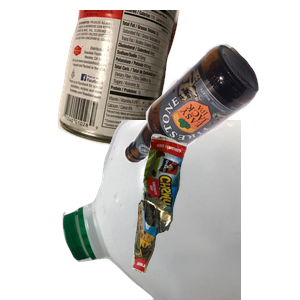glass: (120, 41, 300, 196)
metal: (55, 10, 227, 149)
plastic: (60, 120, 300, 300)
trash: (130, 131, 300, 300)
